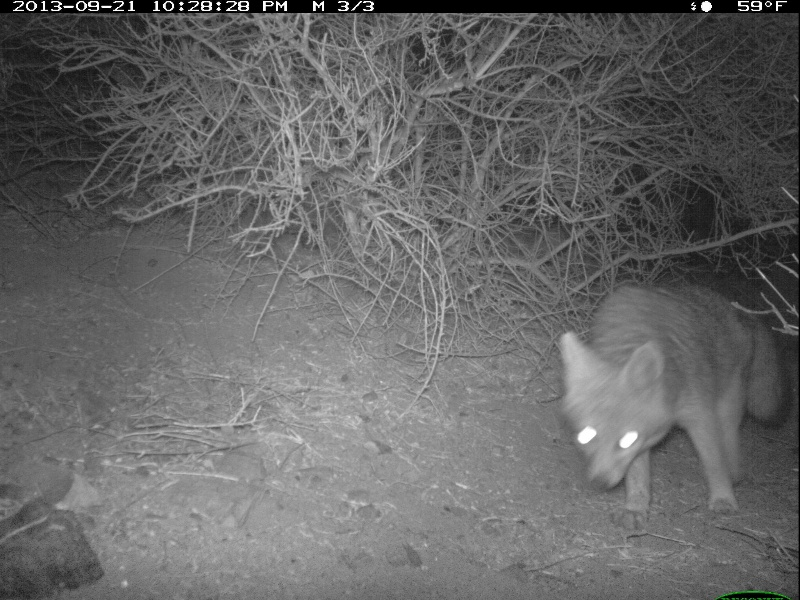fox: (557, 283, 791, 538)
